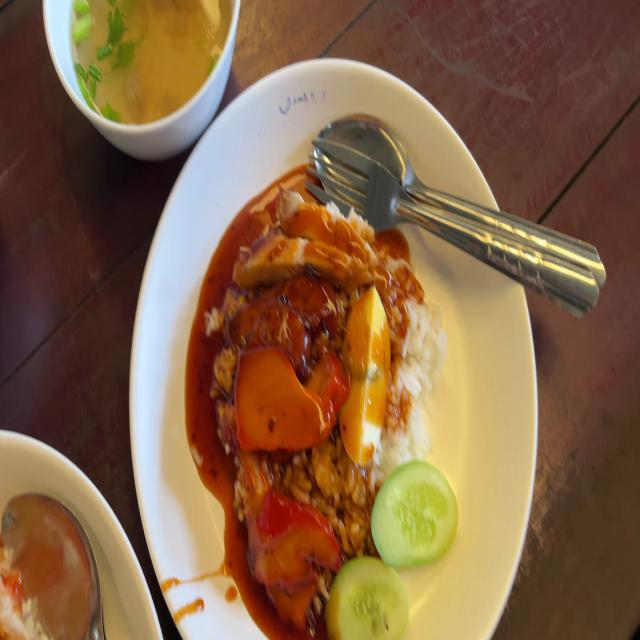01boiled_egg: (340, 286, 393, 465)
01chainese_sausage: (235, 278, 334, 365)
01crispy_pork: (237, 197, 412, 293)
01red_pork: (246, 490, 336, 621), (237, 344, 346, 445)
01red_pork_and_crispy_pork: (209, 184, 463, 640)
cucumber: (371, 459, 459, 564), (326, 551, 413, 640)
